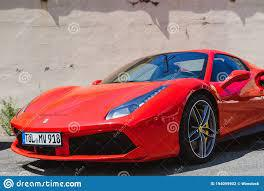1: (52, 134, 56, 143)
8: (56, 134, 60, 144)
9: (48, 134, 52, 143)
L: (32, 134, 35, 143)
M: (38, 134, 43, 143)
T: (25, 134, 29, 142)
V: (43, 134, 47, 143)
oe: (28, 134, 31, 142)
